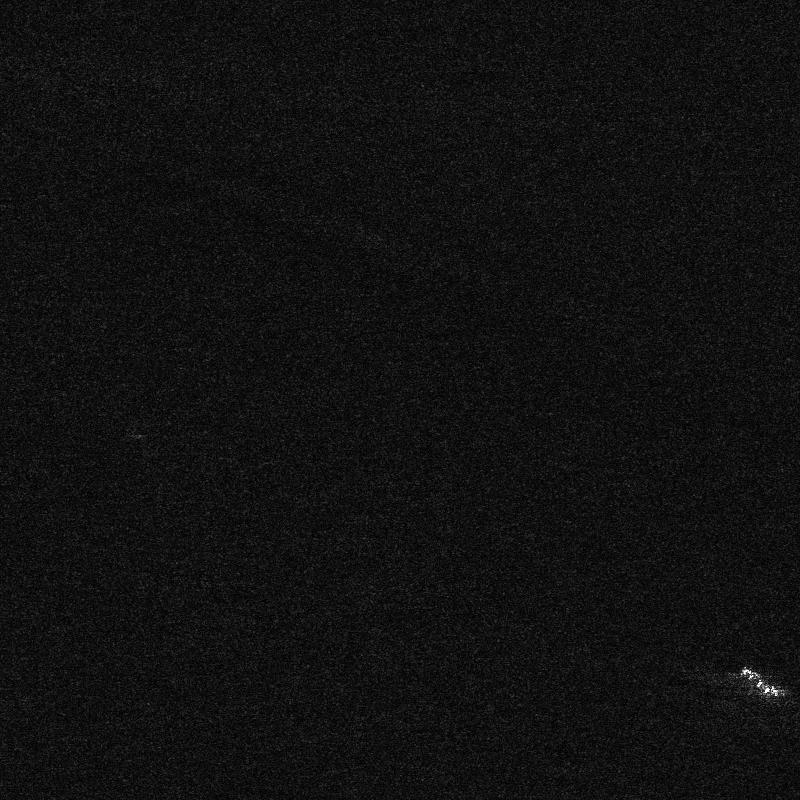ship: (740, 666, 782, 697)
